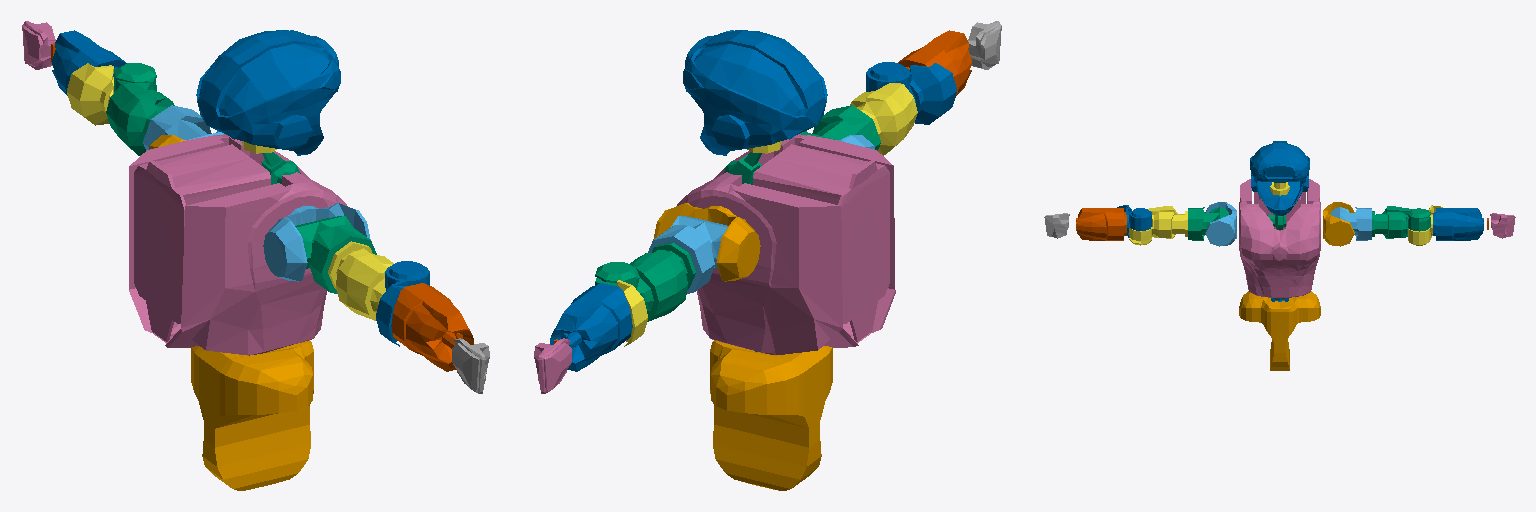
--- Render facts (derived) ---
The picture shows the robot from 3 angles, left to right: view 1: azimuth 30°, elevation 25°; view 2: azimuth 150°, elevation 25°; view 3: azimuth 270°, elevation 25°; orthographic projection.
Model valkyrie with 55 links and 54 joints (33 revolute, 21 fixed), rooted at pelvis, posed every joint at zero.
Visible links, largest first — view 1: torso, pelvis, upperNeckPitchLink, rightForearmLink, leftShoulderYawLink, rightShoulderYawLink, rightShoulderPitchLink, rightShoulderRollLink, leftElbowPitchLink, leftForearmLink, rightElbowPitchLink, leftShoulderRollLink (+3 smaller); view 2: torso, pelvis, upperNeckPitchLink, leftForearmLink, leftShoulderYawLink, leftShoulderPitchLink, rightElbowPitchLink, rightShoulderYawLink, leftShoulderRollLink, rightForearmLink, rightShoulderRollLink, leftPalm (+3 smaller); view 3: torso, upperNeckPitchLink, pelvis, leftForearmLink, rightForearmLink, leftShoulderYawLink, rightShoulderYawLink, rightShoulderPitchLink, leftShoulderPitchLink, rightShoulderRollLink, leftShoulderRollLink, rightElbowPitchLink.
Link boxes in pixels (box(x1,y1,x2,y2)): torso: box(129, 134, 346, 355); pelvis: box(191, 340, 313, 490); upperNeckPitchLink: box(196, 30, 340, 155); rightForearmLink: box(391, 283, 473, 371); leftShoulderYawLink: box(106, 63, 174, 155); rightShoulderYawLink: box(328, 241, 393, 320); rightShoulderPitchLink: box(263, 203, 370, 281); rightShoulderRollLink: box(295, 216, 376, 293); leftElbowPitchLink: box(67, 63, 113, 125); leftForearmLink: box(52, 30, 126, 95); rightElbowPitchLink: box(376, 261, 429, 346); leftShoulderRollLink: box(143, 105, 223, 150); torso: box(677, 134, 895, 354); pelvis: box(710, 340, 832, 490); upperNeckPitchLink: box(683, 30, 827, 155); leftForearmLink: box(550, 283, 632, 371); leftShoulderYawLink: box(595, 242, 695, 321); leftShoulderPitchLink: box(653, 203, 760, 281); rightElbowPitchLink: box(866, 62, 956, 124); rightShoulderYawLink: box(850, 83, 917, 155); leftShoulderRollLink: box(648, 216, 728, 293); rightForearmLink: box(898, 30, 971, 97); rightShoulderRollLink: box(800, 105, 880, 150); leftPalm: box(534, 338, 571, 393); torso: box(1239, 179, 1320, 297); upperNeckPitchLink: box(1250, 141, 1309, 215); pelvis: box(1239, 291, 1320, 370); leftForearmLink: box(1433, 208, 1483, 240); rightForearmLink: box(1076, 208, 1126, 240); leftShoulderYawLink: box(1372, 206, 1430, 238); rightShoulderYawLink: box(1129, 206, 1187, 245); rightShoulderPitchLink: box(1205, 202, 1236, 246); leftShoulderPitchLink: box(1323, 202, 1354, 246); rightShoulderRollLink: box(1188, 207, 1228, 240); leftShoulderRollLink: box(1331, 207, 1371, 240); rightElbowPitchLink: box(1117, 205, 1151, 237).
Bounding box of the posed robot: 0.4375 × 1.96 × 1.04 m (x, y, z).
21 mesh visuals loaded from 30 distinct referenced files (21 Collada DAE); not drawn: 11 (reference not matched to a file when rendering).

The robot description file, URDF, robot "valkyrie":
<?xml version="1.0" ?>
<!-- =================================================================================== -->
<!-- |    This document was autogenerated by xacro from /kinematic_analysis/src/val_description/model/robots/valkyrie_B.urdf.xacro | -->
<!-- |    EDITING THIS FILE BY HAND IS NOT RECOMMENDED                                 | -->
<!-- =================================================================================== -->
<robot name="valkyrie">
  <!--roll-->
  <!-- Setting the property for the left and right forearm -->
  <!-- <xacro:property name="leftArmJ5SerialNumber" value="v_g_016" />
        <xacro:property name="leftForearmSerialNumber" value="v_h_005"/> -->
  <!-- <xacro:property name="rightArmJ5SerialNumber" value="v_g_012" />
        <xacro:property name="rightForearmSerialNumber" value="v_h_006"/> -->
  <link name="pelvis">
    <inertial>
      <mass value="8.22"/>
      <origin rpy="0 0 0" xyz="-0.00532 -0.003512 -0.0036"/>
      <inertia ixx="0.11866378" ixy="-0.000143482" ixz="0.003271293" iyy="0.097963425" iyz="0.002159545" izz="0.083854638"/>
    </inertial>
    <visual>
      <geometry>
        <mesh filename="package://val_description/model/meshes/pelvis/pelvis.dae"/>
      </geometry>
      <origin rpy="0.0 0.0 0.0" xyz="0.0 0.0 0.0"/>
    </visual>
    <collision>
      <geometry>
        <mesh filename="package://val_description/model/meshes/pelvis/pelvis.dae"/>
      </geometry>
      <origin rpy="0 0 0" xyz="0 0 0"/>
    </collision>
  </link>
  <link name="pelvisRearImu_Frame">
    <!-- Virtual Link -->
    <inertial>
      <mass value="1e-07"/>
      <origin rpy="0 0 0" xyz="0 0 0"/>
      <inertia ixx="3.3333333333333322e-22" ixy="0.0" ixz="0.0" iyy="3.3333333333333322e-22" iyz="0.0" izz="4.999999999999999e-22"/>
    </inertial>
  </link>
  <joint name="pelvisRearImu_Offset" type="fixed">
    <origin rpy="-3.14159 0.476467 -3.14159" xyz="-0.075844901 0.0 -0.111056426"/>
    <axis xyz="0 0 1"/>
    <parent link="pelvis"/>
    <child link="pelvisRearImu_Frame"/>
  </joint>
  <gazebo reference="pelvisRearImu_Offset">
    <implicitSpringDamper>1</implicitSpringDamper>
  </gazebo>
  <gazebo>
    <plugin filename="libgazebo_ros_imu.so" name="imu_plugin_ros">
      <alwaysOn>true</alwaysOn>
      <bodyName>pelvisRearImu_Frame</bodyName>
      <topicName>pelvisRearImu/imu</topicName>
      <serviceName>pelvisRearImu/imu_service</serviceName>
      <gaussianNoise>0.0</gaussianNoise>
      <updateRate>1000.0</updateRate>
    </plugin>
  </gazebo>
  <gazebo reference="pelvisRearImu_Frame">
    <sensor name="pelvisRearImu" type="imu">
      <imuTransform>-0.075844901 0.0 -0.111056426 -3.14159 0.476467 -3.14159</imuTransform>
      <always_on>true</always_on>
      <pose>0 0 0 0 0 0 </pose>
      <node name="/sensors/rearPelvisIMU"/>
      <api name="imu_3dm_gx4_15_sensor::Imu3DmGx415Sensor"/>
      <port name="/dev/ttyS4"/>
      <imu>
        <noise>
          <type>gaussian</type>
          <rate>
            <mean>0</mean>
            <stddev>0.0002</stddev>
            <bias_mean>7.5e-06</bias_mean>
            <bias_stddev>8e-07</bias_stddev>
          </rate>
          <accel>
            <mean>0</mean>
            <stddev>0.017</stddev>
            <bias_mean>0.1</bias_mean>
            <bias_stddev>0.001</bias_stddev>
          </accel>
        </noise>
      </imu>
    </sensor>
  </gazebo>
  <link name="pelvisMiddleImu_Frame">
    <!-- Virtual Link -->
    <inertial>
      <mass value="1e-07"/>
      <origin rpy="0 0 0" xyz="0 0 0"/>
      <inertia ixx="3.3333333333333322e-22" ixy="0.0" ixz="0.0" iyy="3.3333333333333322e-22" iyz="0.0" izz="4.999999999999999e-22"/>
    </inertial>
  </link>
  <joint name="pelvisMiddleImu_Offset" type="fixed">
    <origin rpy="3.14159 0.0 0.0" xyz="0.0 0.0 -0.10819638"/>
    <axis xyz="0 0 1"/>
    <parent link="pelvis"/>
    <child link="pelvisMiddleImu_Frame"/>
  </joint>
  <gazebo reference="pelvisMiddleImu_Offset">
    <implicitSpringDamper>1</implicitSpringDamper>
  </gazebo>
  <gazebo>
    <plugin filename="libgazebo_ros_imu.so" name="imu_plugin_ros">
      <alwaysOn>true</alwaysOn>
      <bodyName>pelvisMiddleImu_Frame</bodyName>
      <topicName>pelvisMiddleImu/imu</topicName>
      <serviceName>pelvisMiddleImu/imu_service</serviceName>
      <gaussianNoise>0.0</gaussianNoise>
      <updateRate>500.0</updateRate>
    </plugin>
  </gazebo>
  <gazebo reference="pelvisMiddleImu_Frame">
    <sensor name="pelvisMiddleImu" type="imu">
      <imuTransform>0.0 0.0 -0.10819638 3.14159 0.0 0.0</imuTransform>
      <always_on>true</always_on>
      <pose>0 0 0 0 0 0 </pose>
      <imu>
        <noise>
          <type>gaussian</type>
          <rate>
            <mean>0</mean>
            <stddev>0.0002</stddev>
            <bias_mean>7.5e-06</bias_mean>
            <bias_stddev>8e-07</bias_stddev>
          </rate>
          <accel>
            <mean>0</mean>
            <stddev>0.017</stddev>
            <bias_mean>0.1</bias_mean>
            <bias_stddev>0.001</bias_stddev>
          </accel>
        </noise>
      </imu>
    </sensor>
  </gazebo>
  <link name="zedm_mount">
    <!-- Virtual Link -->
    <inertial>
      <mass value="1e-07"/>
      <origin rpy="0 0 0" xyz="0 0 0"/>
      <inertia ixx="3.3333333333333322e-22" ixy="0.0" ixz="0.0" iyy="3.3333333333333322e-22" iyz="0.0" izz="4.999999999999999e-22"/>
    </inertial>
  </link>
  <joint name="zedm_head_root_joint" type="fixed">
    <origin rpy="0.0 0.1309 0.0" xyz="0.192184 0.0 -0.096498"/>
    <axis xyz="0 0 1"/>
    <parent link="upperNeckPitchLink"/>
    <child link="zedm_mount"/>
  </joint>
  <gazebo reference="zedm_head_root_joint">
    <implicitSpringDamper>1</implicitSpringDamper>
  </gazebo>
  <link name="torsoYawLink">
    <inertial>
      <mass value="0.5"/>
      <origin rpy="0 0 0" xyz="0.000000 0.000000 -0.010000"/>
      <inertia ixx="0.000608427" ixy="-1.172e-06" ixz="1.647e-06" iyy="0.000620328" iyz="-2.33e-07" izz="0.001078108"/>
    </inertial>
    <visual>
      <geometry>
        <mesh filename="package://val_description/model/meshes/torso/torsoyaw.dae"/>
      </geometry>
      <origin rpy="0.0 0.0 0.0" xyz="0.0 0.0 0.0"/>
    </visual>
    <collision>
      <geometry>
        <mesh filename="package://val_description/model/meshes/torso/torsoyaw.dae"/>
      </geometry>
      <origin rpy="0 0 0" xyz="0 0 0"/>
    </collision>
  </link>
  <link name="torsoPitchLink">
    <inertial>
      <mass value="0.1"/>
      <origin rpy="0 0 0" xyz="0.000000 0.000000  0.005000"/>
      <inertia ixx="3.032e-05" ixy="0.0" ixz="-1.145e-06" iyy="2.1274e-05" iyz="0.0" izz="2.8285e-05"/>
    </inertial>
    <visual>
      <geometry>
        <mesh filename="package://val_description/model/meshes/torso/torsopitch.dae"/>
      </geometry>
      <origin rpy="0.0 0.0 0.0" xyz="0.0 0.0 0.0"/>
    </visual>
    <collision>
      <geometry>
        <mesh filename="package://val_description/model/meshes/torso/torsopitch.dae"/>
      </geometry>
      <origin rpy="0 0 0" xyz="0 0 0"/>
    </collision>
  </link>
  <link name="torso">
    <inertial>
      <mass value="30.87"/>
      <origin rpy="0 0 0" xyz="-0.095548 -0.003337 0.243098"/>
      <inertia ixx="0.858969" ixy="9.9563e-05" ixz="0.061345211" iyy="0.99655" iyz="0.00181849" izz="0.764098"/>
    </inertial>
    <visual>
      <geometry>
        <mesh filename="package://val_description/model/meshes/torso/torso.dae"/>
      </geometry>
      <origin rpy="0.0 0.0 0.0" xyz="0.0 0.0 0.0"/>
    </visual>
    <collision>
      <geometry>
        <mesh filename="package://val_description/model/meshes/torso/torso.dae"/>
      </geometry>
      <origin rpy="0 0 0" xyz="0 0 0"/>
    </collision>
  </link>
  <joint name="torsoYaw" type="revolute">
    <origin rpy="0.0 0.0 0.0" xyz="0.0 0.0 0.0"/>
    <axis xyz="0 0 1"/>
    <parent link="pelvis"/>
    <child link="torsoYawLink"/>
    <limit effort="190" lower="-1.329" upper="1.181" velocity="5.89"/>
    <controller_gains Kd="0.0" Ki="0.0" Kp="0.0"/>
    <dynamics damping="0.1" friction="0.0"/>
  </joint>
  <gazebo reference="torsoYaw">
    <provideFeedback>1</provideFeedback>
    <implicitSpringDamper>1</implicitSpringDamper>
  </gazebo>
  <joint name="torsoPitch" type="revolute">
    <origin rpy="0.0 0.0 0.0" xyz="0.04191 0.0 0.0"/>
    <axis xyz="0 1 0"/>
    <parent link="torsoYawLink"/>
    <child link="torsoPitchLink"/>
    <limit effort="150" lower="-0.13" upper="0.666" velocity="9"/>
    <controller_gains Kd="0.0" Ki="0.0" Kp="0.0"/>
    <dynamics damping="0.1" friction="0.0"/>
  </joint>
  <gazebo reference="torsoPitch">
    <provideFeedback>1</provideFeedback>
    <implicitSpringDamper>1</implicitSpringDamper>
  </gazebo>
  <joint name="torsoRoll" type="revolute">
    <origin rpy="0.0 0.0 0.0" xyz="0.0 0.0 0.0203"/>
    <axis xyz="1 0 0"/>
    <parent link="torsoPitchLink"/>
    <child link="torso"/>
    <limit effort="150" lower="-0.23" upper="0.255" velocity="9"/>
    <controller_gains Kd="0.0" Ki="0.0" Kp="0.0"/>
    <dynamics damping="0.1" friction="0.0"/>
  </joint>
  <gazebo reference="torsoRoll">
    <provideFeedback>1</provideFeedback>
    <implicitSpringDamper>1</implicitSpringDamper>
  </gazebo>
  <transmission name="torsoYawTransmission">
    <type>transmission_interface/SimpleTransmission</type>
    <joint name="torsoYaw">
      <hardwareInterface>EffortJointInterface</hardwareInterface>
    </joint>
    <actuator name="torsoYaw">
      <node name="/pelvis/waist"/>
      <mechanicalReduction>1</mechanicalReduction>
      <api name="robot_hardware_interface/TurbodriverAPI"/>
    </actuator>
  </transmission>
  <transmission name="waistTransmission">
    <type>robot_transmission_interface::TorsoPushrodTransmissionLoader</type>
    <joint name="torsoPitch">
      <role>pitch</role>
      <hardwareInterface>EffortJointInterface</hardwareInterface>
    </joint>
    <joint name="torsoRoll">
      <role>roll</role>
      <hardwareInterface>EffortJointInterface</hardwareInterface>
    </joint>
    <actuator name="waistRightActuator">
      <node name="/trunk/right_actuator"/>
      <role>right</role>
      <mechanicalReduction>1</mechanicalReduction>
      <api name="robot_hardware_interface/TurbodriverAPI_linear_Renishaw"/>
    </actuator>
    <actuator name="waistLeftActuator">
      <node name="/trunk/left_actuator"/>
      <role>left</role>
      <mechanicalReduction>1</mechanicalReduction>
      <api name="robot_hardware_interface/TurbodriverAPI_linear_Renishaw"/>
    </actuator>
  </transmission>
  <link name="leftTorsoImu_Frame">
    <!-- Virtual Link -->
    <inertial>
      <mass value="1e-07"/>
      <origin rpy="0 0 0" xyz="0 0 0"/>
      <inertia ixx="3.3333333333333322e-22" ixy="0.0" ixz="0.0" iyy="3.3333333333333322e-22" iyz="0.0" izz="4.999999999999999e-22"/>
    </inertial>
  </link>
  <joint name="leftTorsoImu_Offset" type="fixed">
    <origin rpy="-1.5707 0.0 0.0" xyz="-0.0627634 0.134239 0.3630676"/>
    <axis xyz="0 0 1"/>
    <parent link="torso"/>
    <child link="leftTorsoImu_Frame"/>
  </joint>
  <gazebo reference="leftTorsoImu_Offset">
    <implicitSpringDamper>1</implicitSpringDamper>
  </gazebo>
  <gazebo>
    <plugin filename="libgazebo_ros_imu.so" name="imu_plugin_ros">
      <alwaysOn>true</alwaysOn>
      <bodyName>leftTorsoImu_Frame</bodyName>
      <topicName>leftTorsoImu/imu</topicName>
      <serviceName>leftTorsoImu/imu_service</serviceName>
      <gaussianNoise>0.0</gaussianNoise>
      <updateRate>1000.0</updateRate>
    </plugin>
  </gazebo>
  <gazebo reference="leftTorsoImu_Frame">
    <sensor name="leftTorsoImu" type="imu">
      <imuTransform>-0.0627634 0.134239 0.3630676 -1.5707 0.0 0.0</imuTransform>
      <always_on>true</always_on>
      <pose>0 0 0 0 0 0 </pose>
      <node name="/sensors/leftTorsoIMU"/>
      <api name="imu_3dm_gx4_15_sensor::Imu3DmGx415Sensor"/>
      <port name="/dev/ttyS5"/>
      <imu>
        <noise>
          <type>gaussian</type>
          <rate>
            <mean>0</mean>
            <stddev>0.0002</stddev>
            <bias_mean>7.5e-06</bias_mean>
            <bias_stddev>8e-07</bias_stddev>
          </rate>
          <accel>
            <mean>0</mean>
            <stddev>0.017</stddev>
            <bias_mean>0.1</bias_mean>
            <bias_stddev>0.001</bias_stddev>
          </accel>
        </noise>
      </imu>
    </sensor>
  </gazebo>
  <link name="rightHazardCamera_Frame">
    <!-- Virtual Link -->
    <inertial>
      <mass value="1e-07"/>
      <origin rpy="0 0 0" xyz="0 0 0"/>
      <inertia ixx="3.3333333333333322e-22" ixy="0.0" ixz="0.0" iyy="3.3333333333333322e-22" iyz="0.0" izz="4.999999999999999e-22"/>
    </inertial>
  </link>
  <gazebo reference="rightHazardCamera_Frame">
    <sensor name="rightHazardCamera" type="camera">
      <camera>
        <image>
          <width>1280</width>
          <height>1024</height>
          <format>R8G8B8</format>
        </image>
        <horizontal_fov>1.378</horizontal_fov>
        <clip>
          <near>0.1</near>
          <far>100</far>
        </clip>
      </camera>
      <update_rate>60</update_rate>
    </sensor>
  </gazebo>
  <joint name="rightHazardCamera_Offset" type="fixed">
    <origin rpy="1.57 0.0 1.57" xyz="0.0345 -0.0406 0.1135"/>
    <axis xyz="0 0 1"/>
    <parent link="torso"/>
    <child link="rightHazardCamera_Frame"/>
  </joint>
  <gazebo reference="rightHazardCamera_Offset">
    <implicitSpringDamper>1</implicitSpringDamper>
  </gazebo>
  <link name="leftHazardCamera_Frame">
    <!-- Virtual Link -->
    <inertial>
      <mass value="1e-07"/>
      <origin rpy="0 0 0" xyz="0 0 0"/>
      <inertia ixx="3.3333333333333322e-22" ixy="0.0" ixz="0.0" iyy="3.3333333333333322e-22" iyz="0.0" izz="4.999999999999999e-22"/>
    </inertial>
  </link>
  <gazebo reference="leftHazardCamera_Frame">
    <sensor name="leftHazardCamera" type="camera">
      <camera>
        <image>
          <width>1280</width>
          <height>1024</height>
          <format>R8G8B8</format>
        </image>
        <horizontal_fov>1.378</horizontal_fov>
        <clip>
          <near>0.1</near>
          <far>100</far>
        </clip>
      </camera>
      <update_rate>60</update_rate>
    </sensor>
  </gazebo>
  <joint name="leftHazardCamera_Offset" type="fixed">
    <origin rpy="1.57 0.0 1.57" xyz="0.0345 0.0406 0.1135"/>
    <axis xyz="0 0 1"/>
    <parent link="torso"/>
    <child link="leftHazardCamera_Frame"/>
  </joint>
  <gazebo reference="leftHazardCamera_Offset">
    <implicitSpringDamper>1</implicitSpringDamper>
  </gazebo>
  <link name="lowerNeckPitchLink">
    <inertial>
      <mass value="1.05"/>
      <origin rpy="0 0 0" xyz="-0.020000 0.000000  0.040000"/>
      <inertia ixx="0.001470716" ixy="-0.000126021" ixz="0.000632521" iyy="0.001851919" iyz="0.000243012" izz="0.000832117"/>
    </inertial>
    <visual>
      <geometry>
        <mesh filename="package://val_description/model/meshes/head/neckj1.dae"/>
      </geometry>
      <origin rpy="0.0 0.0 0.0" xyz="0.0 0.0 0.0"/>
    </visual>
    <collision>
      <geometry>
        <mesh filename="package://val_description/model/meshes/head/neckj1.dae"/>
      </geometry>
      <origin rpy="0 0 0" xyz="0 0 0"/>
    </collision>
  </link>
  <link name="neckYawLink">
    <inertial>
      <mass value="1.4"/>
      <origin rpy="0 0 0" xyz="-0.030000  -0.010000 0.150000"/>
      <inertia ixx="0.001997698" ixy="-0.000180062" ixz="0.000723677" iyy="0.002919928" iyz="0.000246467" izz="0.002119751"/>
    </inertial>
    <visual>
      <geometry>
        <mesh filename="package://val_description/model/meshes/head/neckj2.dae"/>
      </geometry>
      <origin rpy="0.0 0.0 0.0" xyz="0.0 0.0 0.0"/>
    </visual>
    <collision>
      <geometry>
        <mesh filename="package://val_description/model/meshes/head/neckj2.dae"/>
      </geometry>
      <origin rpy="0 0 0" xyz="0 0 0"/>
    </collision>
  </link>
  <link name="upperNeckPitchLink">
    <inertial>
      <mass value="3.89"/>
      <origin rpy="0 0 0" xyz="0.100912 0.005783 0.034787"/>
      <inertia ixx="0.039847525" ixy="-0.000470418" ixz="-0.002829842" iyy="0.041418564" iyz="-0.000782564" izz="0.036841236"/>
    </inertial>
    <visual>
      <geometry>
        <mesh filename="package://val_description/model/meshes/head/head_multisense_no_visor.dae"/>
      </geometry>
      <origin rpy="0.0 0.0 0.0" xyz="0.0 0.0 0.0"/>
    </visual>
    <collision>
      <geometry>
        <mesh filename="package://val_description/model/meshes/head/head_multisense_no_visor.dae"/>
      </geometry>
      <origin rpy="0 0 0" xyz="0 0 0"/>
    </collision>
  </link>
  <joint name="lowerNeckPitch" type="revolute">
    <origin rpy="0.0 0.0 0.0" xyz="0.0203518 0.0 0.33845"/>
    <axis xyz="0 1 0"/>
    <parent link="torso"/>
    <child link="lowerNeckPitchLink"/>
    <limit effort="26" lower="0" upper="1.162" velocity="5"/>
    <controller_gains Kd="3" Ki="3" Kp="50"/>
    <dynamics damping="0.1" friction="0.0"/>
  </joint>
  <gazebo reference="lowerNeckPitch">
    <provideFeedback>1</provideFeedback>
    <implicitSpringDamper>1</implicitSpringDamper>
  </gazebo>
  <joint name="neckYaw" type="revolute">
    <origin rpy="0.0 0.0 0.0" xyz="-0.051924 0.0 0.0"/>
    <axis xyz="0 0 1"/>
    <parent link="lowerNeckPitchLink"/>
    <child link="neckYawLink"/>
    <limit effort="26" lower="-1.04719755" upper="1.04719755" velocity="5"/>
    <controller_gains Kd="3" Ki="0.0" Kp="50"/>
    <dynamics damping="0.1" friction="0.0"/>
  </joint>
  <gazebo reference="neckYaw">
    <provideFeedback>1</provideFeedback>
    <implicitSpringDamper>1</implicitSpringDamper>
  </gazebo>
  <joint name="upperNeckPitch" type="revolute">
    <origin rpy="0.0 0.0 0.0" xyz="-0.06 0 0.195997"/>
    <axis xyz="0 1 0"/>
    <parent link="neckYawLink"/>
    <child link="upperNeckPitchLink"/>
    <limit effort="26" lower="-0.872" upper="0.0" velocity="5"/>
    <controller_gains Kd="3" Ki="0.0" Kp="50"/>
    <dynamics damping="0.1" friction="0.0"/>
  </joint>
  <gazebo reference="upperNeckPitch">
    <provideFeedback>1</provideFeedback>
    <implicitSpringDamper>1</implicitSpringDamper>
  </gazebo>
    <!-- Head Link Simple Collision Meshes -->
  <link name="multisense/head">
    <inertial>
      <origin xyz="-0.075493 3.3383E-05 0.02774" rpy="0 0 0" />
      <mass value="1.41984" />
      <inertia iyy="0.0041178" ixy="-1.5797E-06" iyz="-6.8415E-07" ixx="0.0039688" ixz="-0.00089293" izz="0.0035243" />
    </inertial>
<!--     <visual>
      <origin xyz="0 0 0" rpy="0 0 0" />
      <geometry>
        <mesh filename="package://val_description/model/meshes/multisense/head.dae" />
      </geometry>
    </visual> -->
  <collision>
    <origin xyz="-0.0503 0 -0.00195" rpy="0 0 0" />
    <geometry>
      <box size="0.1311 0.12 0.0591"/>
    </geometry>
  </collision>
  <collision>
    <origin xyz="-0.093 0 0.0868" rpy="0 0 0" />
    <geometry>
      <box size="0.0468 0.12 0.1184"/>
    </geometry>
  </collision>
  </link>
  <link name="hokuyo_link">
    <inertial>
      <origin xyz="0.032428 0.0004084 -0.0041835" rpy="0 0 0" />
      <mass value="0.057654" />
      <inertia iyy="4.2412E-05" ixy="4.9927E-08" iyz="-9.8165E-09" ixx="3.7174E-05" ixz="1.1015E-05" izz="4.167E-05" />
    </inertial>
    <visual>
      <!--origin xyz="0.065774 -0.001163 -0.08809" rpy="0 0 0" /-->
      <!--origin xyz="0.045 -0.001163 -0.08809" rpy="-0.314 0 0" /-->
      <origin xyz="0.045 -0.0261018277 -0.08342369" rpy="-0.314 0 0" />
      <geometry>
        <mesh filename="package://val_description/model/meshes/multisense/head_camera.dae" />
      </geometry>
    </visual>
  <collision>
    <origin xyz="0.01885 0 -0.02119" rpy="0 0 0" />
    <geometry>
      <box size="0.08 0.06 0.04238"/>
    </geometry>
  </collision>
  <collision>
    <origin xyz="0.03 0 0.0235" rpy="0 0 0" />
    <geometry>
      <cylinder radius="0.024425" length="0.047"/>
    </geometry>
  </collision>
  </link>
  <gazebo reference="multisense/head">
    <mu1>0.9</mu1>
    <mu2>0.9</mu2>
  </gazebo>
  <gazebo reference="hokuyo_link">
    <mu1>0.9</mu1>
    <mu2>0.9</mu2>
  </gazebo>

  <joint name="hokuyo_joint" type="revolute">
    <origin xyz="-0.0446 0 0.0880" rpy="0 0 0" />
    <parent link="multisense/head" />
    <child link="hokuyo_link" />
    <axis xyz="1 0 0" />
    <dynamics damping="0.01" friction="0"/>
    <limit lower="-1e+16" upper="1e+16"/>
  </joint>
  <gazebo reference="hokuyo_joint">
    <implicitSpringDamper>1</implicitSpringDamper>
  </gazebo>

  <!-- Hokuyo Laser -->
  <joint name="head_hokuyo_joint" type="fixed">
    <axis xyz="0 1 0" />
    <origin xyz="0.03 0 0.015" rpy="0 0 0"/>
    <parent link="hokuyo_link"/>
    <child link="head_hokuyo_frame"/>
  </joint>
  <link name="head_hokuyo_frame">
    <inertial>
      <mass value="1e-5" />
      <!-- collocate with parent link and remove mass from it -->
      <origin xyz="0.042428 0.0004084 0.0108165" rpy="0 0 0"/>
      <inertia ixx="1e-6" ixy="0" ixz="0" iyy="1e-6" iyz="0" izz="1e-6" />
    </inertial>
  </link>
  <gazebo reference="head_hokuyo_frame">
    <sensor type="gpu_ray" name="head_hokuyo_sensor">
      <pose>0 0 0 0 0 0</pose>
      <visualize>false</visualize>
      <update_rate>40</update_rate>
      <ray>
        <scan>
          <horizontal>
            <samples>1081</samples>
            <resolution>1</resolution>
            <min_angle>-2.356194</min_angle>
            <max_angle>2.356194</max_angle>
          </horizontal>
        </scan>
        <range>
          <min>0.10</min>
          <max>30.0</max>
          <resolution>0.01</resolution>
        </range>
        <noise>
          <type>gaussian</type>
          <!-- Noise parameters based on published spec for Hokuyo laser
               achieving "+-30mm" accuracy at range < 10m.  A mean of 0.0m and
               stddev of 0.01m will put 99.7% of samples within 0.03m of the true
               reading. -->
          <mean>0.0</mean>
          <stddev>0.01</stddev>
        </noise>
      </ray>
    </sensor>
  </gazebo>
  <!-- Stereo Camera -->
  <joint name="left_camera_frame_joint" type="fixed">
    <!-- optical frame collocated with tilting DOF -->
    <origin xyz="0.0 0.035 -0.002"/>
    <parent link="multisense/head"/>
    <child link="left_camera_frame"/>
  </joint>
  <link name="left_camera_frame">
    <inertial>
      <mass value="1e-5" />
      <!-- collocate with parent link and remove mass from it -->
      <origin xyz="-0.075493 0.035033383 0.02574"/>
      <inertia ixx="1e-6" ixy="0" ixz="0" iyy="1e-6" iyz="0" izz="1e-6" />
    </inertial>
  </link>
  <joint name="left_camera_optical_frame_joint" type="fixed">
    <origin xyz="0 0 0" rpy="-1.5708 0.0 -1.5708" />
    <parent link="left_camera_frame" />
    <child link="left_camera_optical_frame"/>
  </joint>
  <link name="left_camera_optical_frame"/>
  <gazebo reference="left_camera_frame">
    <sensor type="multicamera" name="stereo_camera">
      <!-- see MultiSenseSLPlugin.h for available modes -->
      <update_rate>10.0</update_rate>
      <camera name="left">
        <!-- Spec sheet says 80deg X 45deg @ 1024x544pix.  Based on feedback
             from teams, we're instead doing 80deg X 80deg @ 800x800pix. -->
        <horizontal_fov>1.3962634</horizontal_fov>
        <image>
          <width>1024</width>
          <height>544</height>
          <format>R8G8B8</format>
        </image>
        <clip>
          <near>0.02</near>
          <far>300</far>
        </clip>
        <noise>
          <type>gaussian</type>
          <!-- Noise is sampled independently per pixel on each frame.  
               That pixel's noise value is added to each of its color
               channels, which at that point lie in the range [0,1].
               The stddev value of 0.007 is based on experimental data 
               from a camera in a Sandia hand pointed at a static scene
               in a couple of different lighting conditions.  -->
          <mean>0.0</mean>
          <stddev>0.007</stddev>
        </noise>
      </camera>
      <camera name="right">
        <pose>0 -0.07 0 0 0 0</pose>
        <!-- Spec sheet says 80deg X 45deg @ 1024x544pix. -->
        <horizontal_fov>1.3962634</horizontal_fov>
        <image>
          <width>1024</width>
          <height>544</height>
          <format>R8G8B8</format>
        </image>
        <clip>
          <near>0.02</near>
          <far>300</far>
        </clip>
        <noise>
          <type>gaussian</type>
          <!-- Noise is sampled independently per pixel on each frame.  
               That pixel's noise value is added to each of its color
               channels, which at that point lie in the range [0,1].
               The stddev value of 0.007 is based on experimental data 
               from a camera in a Sandia hand pointed at a static scene
               in a couple of different lighting conditions.  -->
          <mean>0.0</mean>
          <stddev>0.007</stddev>
        </noise>
      </camera>
    </sensor>
  </gazebo>


  <joint name="right_camera_frame_joint" type="fixed">
    <origin xyz="0.0 -0.035 -0.002"/>
    <parent link="multisense/head"/>
    <child link="right_camera_frame"/>
  </joint>
  <link name="right_camera_frame">
    <inertial>
      <mass value="1e-5" />
      <!-- collocate with parent link and remove mass from it -->
      <origin xyz="-0.075493 -0.034966617 0.02574"/>
      <inertia ixx="1e-6" ixy="0" ixz="0" iyy="1e-6" iyz="0" izz="1e-6" />
    </inertial>
  </link>
  <joint name="right_camera_optical_frame_joint" type="fixed">
    <origin xyz="0 0 0" rpy="-1.5708 0.0 -1.5708" />
    <parent link="right_camera_frame" />
    <child link="right_camera_optical_frame"/>
  </joint>
  <link name="right_camera_optical_frame"/>

  <joint name="center_top_led_frame_joint" type="fixed">
    <origin xyz="0.01125 0.0 0.0105"/>
    <parent link="multisense/head"/>
    <child link="center_top_led_frame"/>
  </joint>
  <link name="center_top_led_frame">
    <inertial>
      <mass value="1e-5" />
      <!-- collocate with parent link and remove mass from it -->
      <origin xyz="-0.064243 0.000033383 0.03824" rpy="0 0 0" />
      <inertia ixx="1e-6" ixy="0" ixz="0" iyy="1e-6" iyz="0" izz="1e-6" />
    </inertial>
  </link>
  <joint name="center_bottom_led_frame_joint" type="fixed">
    <origin xyz="0.01125 0.0 -0.0155"/>
    <parent link="multisense/head"/>
    <child link="center_bottom_led_frame"/>
  </joint>
  <link name="center_bottom_led_frame">
    <inertial>
      <mass value="1e-5" />
      <!-- collocate with parent link and remove mass from it -->
      <origin xyz="-0.064243 0.000033383 0.01224" rpy="0 0 0" />
      <inertia ixx="1e-6" ixy="0" ixz="0" iyy="1e-6" iyz="0" izz="1e-6" />
    </inertial>
  </link>
  <joint name="left_led_frame_joint" type="fixed">
    <origin xyz="-0.01443 0.07452 0.050346" rpy="0 -0.15 0.53"/>
    <parent link="multisense/head"/>
    <child link="left_led_frame"/>
  </joint>
  <link name="left_led_frame">
    <inertial>
      <mass value="1e-5" />
      <!-- collocate with parent link and remove mass from it -->
      <origin xyz="-0.089923 0.074553383 0.078086" rpy="0 -0.15 0.53" />
      <inertia ixx="1e-6" ixy="0" ixz="0" iyy="1e-6" iyz="0" izz="1e-6" />
    </inertial>
  </link>
  <joint name="right_led_frame_joint" type="fixed">
    <origin xyz="-0.01443 -0.07452 0.050346" rpy="0 -0.15 -0.53"/>
    <parent link="multisense/head"/>
    <child link="right_led_frame"/>
  </joint>
  <link name="right_led_frame">
    <inertial>
      <mass value="1e-5" />
      <!-- collocate with parent link and remove mass from it -->
      <origin xyz="-0.089923 -0.074486617 0.07908" rpy="0 -0.15 -0.53" />
      <inertia ixx="1e-6" ixy="0" ixz="0" iyy="1e-6" iyz="0" izz="1e-6" />
    </inertial>
  </link>

  <!-- imu link -->
  <link name="head_imu_link">
    <inertial>
      <mass value="1e-5" />
      <!-- collocate with parent link and remove mass from it -->
      <origin xyz="-0.122993 0.035033383 0.02774" rpy="0 0 0" />
      <inertia ixx="1e-6" ixy="0" ixz="0" iyy="1e-6" iyz="0" izz="1e-6" />
    </inertial>
  </link>
  <joint name="head_imu_joint" type="fixed">
    <parent link="multisense/head"/>
    <child link="head_imu_link"/>
    <!-- putting it at the same z-level as the stereo -->
    <origin xyz="-0.0475 0.035 0.0" rpy="0 0 0"/>
  </joint>
  <gazebo reference="head_imu_link">
    <sensor name="head_imu_sensor" type="imu">
      <always_on>1</always_on>
      <update_rate>1000.0</update_rate>
      <imu>
        <noise>
          <type>gaussian</type>
          <rate>
            <mean>0.0</mean>
            <stddev>2e-4</stddev>
            <bias_mean>0.0000075</bias_mean>
            <bias_stddev>0.0000008</bias_stddev>
          </rate>
          <accel>
            <mean>0.0</mean>
            <stddev>1.7e-2</stddev>
            <bias_mean>0.1</bias_mean>
            <bias_stddev>0.001</bias_stddev>
          </accel>
        </noise>
      </imu>
    </sensor>
  </gazebo>
  <joint name="multisense_head_root_joint" type="fixed">
    <origin rpy="-3.14159 0.130899694 0.0" xyz="0.183585961 0.0 0.075353826"/>
    <axis xyz="0 0 1"/>
    <parent link="upperNeckPitchLink"/>
    <child link="multisense/head"/>
  </joint>
  <gazebo reference="multisense_head_root_joint">
    <implicitSpringDamper>1</implicitSpringDamper>
  </gazebo>
  <transmission name="lowerNeckPitchTransmission">
    <type>transmission_interface/SimpleTransmission</type>
    <joint name="lowerNeckPitch">
      <hardwareInterface>PositionJointInterface</hardwareInterface>
    </joint>
    <actuator name="lowerNeckPitch">
      <node name="/neck/j1"/>
      <mechanicalReduction>1</mechanicalReduction>
      <api name="robot_hardware_interface/TurbodriverAPI"/>
    </actuator>
  </transmission>
  <transmission name="neckYawTransmission">
    <type>transmission_interface/SimpleTransmission</type>
    <joint name="neckYaw">
      <hardwareInterface>PositionJointInterface</hardwareInterface>
    </joint>
    <actuator name="neckYaw">
      <node name="/neck/j2"/>
      <mechanicalReduction>1</mechanicalReduction>
      <api name="robot_hardware_interface/TurbodriverAPI"/>
    </actuator>
  </transmission>
  <transmission name="upperNeckPitchTransmission">
    <type>transmission_interface/SimpleTransmission</type>
    <joint name="upperNeckPitch">
      <hardwareInterface>PositionJointInterface</hardwareInterface>
    </joint>
    <actuator name="upperNeckPitch">
      <node name="/neck/j3"/>
      <mechanicalReduction>1</mechanicalReduction>
      <api name="robot_hardware_interface/TurbodriverAPI"/>
    </actuator>
  </transmission>
  <link name="rightHipYawLink">
    <inertial>
      <mass value="2.39"/>
      <origin rpy="0 0 0" xyz="0.02176 0.00131 0.03867"/>
      <inertia ixx="0.017260978" ixy="0.0" ixz="0.0" iyy="0.014866198" iyz="0.0" izz="0.011238178"/>
    </inertial>
    <visual>
      <geometry>
        <mesh filename="package://val_description/model/meshes/legs/lj1_right.dae"/>
      </geometry>
      <origin rpy="0.0 0.0 0.0" xyz="0.0 0.0 0.0"/>
    </visual>
    <collision>
      <geometry>
        <mesh filename="package://val_description/model/meshes/legs/lj1_right.dae"/>
      </geometry>
      <origin rpy="0 0 0" xyz="0 0 0"/>
    </collision>
  </link>
  <link name="rightHipRollLink">
    <inertial>
      <mass value="3.665"/>
      <origin rpy="0 0 0" xyz="0.012959 -0.00755 -0.015950"/>
      <inertia ixx="0.005978962" ixy="0.000234823" ixz="0.000553962" iyy="0.009372646" iyz="-0.000778956" izz="0.008193117"/>
    </inertial>
  </link>
  <link name="rightHipPitchLink">
    <inertial>
      <mass value="10.2"/>
      <origin rpy="0 0 0" xyz="0.016691 -0.091397 -0.207875"/>
      <inertia ixx="0.24083413" ixy="-3.5915e-05" ixz="0.003699383" iyy="0.25689705" iyz="0.001333005" izz="0.023276352"/>
    </inertial>
    <visual>
      <geometry>
        <mesh filename="package://val_description/model/meshes/legs/lj3_right.dae"/>
      </geometry>
      <origin rpy="0.0 0.0 0.0" xyz="0.0 0.0 0.0"/>
    </visual>
    <collision>
      <geometry>
        <mesh filename="package://val_description/model/meshes/legs/lj3_right.dae"/>
      </geometry>
      <origin rpy="0 0 0" xyz="0 0 0"/>
    </collision>
  </link>
  <link name="rightKneePitchLink">
    <inertial>
      <mass value="6.2"/>
      <origin rpy="0 0 0" xyz="-0.022183  0.001703  -0.189418"/>
      <inertia ixx="0.086935683" ixy="9.929e-05" ixz="0.000573207" iyy="0.091584066" iyz="0.000313745" izz="0.014017272"/>
    </inertial>
    <visual>
      <geometry>
        <mesh filename="package://val_description/model/meshes/legs/lj4_right.dae"/>
      </geometry>
      <origin rpy="0.0 0.0 0.0" xyz="0.0 0.0 0.0"/>
    </visual>
    <collision>
      <geometry>
        <mesh filename="package://val_description/model/meshes/legs/lj4_right.dae"/>
      </geometry>
      <origin rpy="0 0 0" xyz="0 0 0"/>
    </collision>
  </link>
  <link name="rightAnklePitchLink">
    <inertial>
      <mass value="0.03"/>
      <origin rpy="0 0 0" xyz="0.0 0.0 0.0"/>
      <inertia ixx="4.377e-06" ixy="0.0" ixz="0.0" iyy="4.322e-06" iyz="0.0" izz="7.015e-06"/>
    </inertial>
    <visual>
      <geometry>
        <mesh filename="package://val_description/model/meshes/legs/lj5.dae"/>
      </geometry>
      <origin rpy="0.0 0.0 0.0" xyz="0.0 0.0 0.0"/>
    </visual>
    <collision>
      <geometry>
        <mesh filename="package://val_description/model/meshes/legs/lj5.dae"/>
      </geometry>
      <origin rpy="0 0 0" xyz="0 0 0"/>
    </collision>
  </link>
  <link name="rightFoot">
    <inertial>
      <mass value="2.27"/>
      <origin rpy="0 0 0" xyz="0.037702  0.005161  -0.047634"/>
      <inertia ixx="0.00623936" ixy="0.000217174" ixz="0.001340587" iyy="0.017786991" iyz="-0.000187749" izz="0.020774433"/>
    </inertial>
    <visual>
      <geometry>
        <mesh filename="package://val_description/model/meshes/legs/foot.dae"/>
      </geometry>
      <origin rpy="0 0 0" xyz="0 0 0"/>
    </visual>
    <collision>
      <geometry>
        <box size="0.27 0.16 0.064"/>
      </geometry>
      <origin rpy="0.0 0.0 0.0" xyz="0.045 0.0 -0.056"/>
    </collision>
  </link>
  <!-- foot contact parameters copied from atlas_description in drcsim -->
  <gazebo reference="rightFoot">
    <!-- kp and kd for rubber -->
    <kp>1000000.0</kp>
    <kd>100.0</kd>
    <mu1>1.5</mu1>
    <mu2>1.5</mu2>
    <fdir1>1 0 0</fdir1>
    <maxVel>1.0</maxVel>
    <minDepth>0.00</minDepth>
  </gazebo>
  <joint name="rightHipYaw" type="revolute">
    <origin rpy="0.0 0.0 0.0" xyz="0.0 -0.1016 -0.1853"/>
    <axis xyz="0 0 1"/>
    <parent link="pelvis"/>
    <child link="rightHipYawLink"/>
    <limit effort="190" lower="-1.10" upper="0.4141" velocity="5.89"/>
    <controller_gains Kd="0.0" Ki="0.0" Kp="0.0"/>
    <dynamics damping="0.1" friction="0.0"/>
  </joint>
  <gazebo reference="rightHipYaw">
    <provideFeedback>1</provideFeedback>
    <implicitSpringDamper>1</implicitSpringDamper>
  </gazebo>
  <joint name="rightHipRoll" type="revolute">
    <origin rpy="0.0 0.0 0.0" xyz="0.0 0.0 0.0"/>
    <axis xyz="1 0 0"/>
    <parent link="rightHipYawLink"/>
    <child link="rightHipRollLink"/>
    <limit effort="350" lower="-0.5515" upper="0.467" velocity="7"/>
    <controller_gains Kd="0.0" Ki="0.0" Kp="0.0"/>
    <dynamics damping="0.1" friction="0.0"/>
  </joint>
  <gazebo reference="rightHipRoll">
    <provideFeedback>1</provideFeedback>
    <implicitSpringDamper>1</implicitSpringDamper>
  </gazebo>
  <joint name="rightHipPitch" type="revolute">
    <origin rpy="0.0 0.0 0.0" xyz="0.0 0.0 -0.0609"/>
    <axis xyz="0 1 0"/>
    <parent link="rightHipRollLink"/>
    <child link="rightHipPitchLink"/>
    <limit effort="350" lower="-2.42" upper="1.619" velocity="6.11"/>
    <controller_gains Kd="0.0" Ki="0.0" Kp="0.0"/>
    <dynamics damping="0.1" friction="0.0"/>
  </joint>
  <gazebo reference="rightHipPitch">
    <provideFeedback>1</provideFeedback>
    <implicitSpringDamper>1</implicitSpringDamper>
  </gazebo>
  <joint name="rightKneePitch" type="revolute">
    <origin rpy="0.0 0.0 0.0" xyz="0.000112225 -0.0361046 -0.430959"/>
    <axis xyz="0 1 0"/>
    <parent link="rightHipPitchLink"/>
    <child link="rightKneePitchLink"/>
    <limit effort="350" lower="-0.083" upper="2.057" velocity="6.11"/>
    <controller_gains Kd="0.0" Ki="0.0" Kp="0.0"/>
    <dynamics damping="0.1" friction="0.0"/>
  </joint>
  <gazebo reference="rightKneePitch">
    <provideFeedback>1</provideFeedback>
    <implicitSpringDamper>1</implicitSpringDamper>
  </gazebo>
  <joint name="rightAnklePitch" type="revolute">
    <origin rpy="0.0 0.0 0.0" xyz="-0.0102381 0.0 -0.40627"/>
    <axis xyz="0 1 0"/>
    <parent link="rightKneePitchLink"/>
    <child link="rightAnklePitchLink"/>
    <limit effort="205" lower="-0.8644" upper="0.875" velocity="11"/>
    <controller_gains Kd="0.0" Ki="0.0" Kp="0.0"/>
    <dynamics damping="0.1" friction="0.0"/>
  </joint>
  <gazebo reference="rightAnklePitch">
    <provideFeedback>1</provideFeedback>
    <implicitSpringDamper>1</implicitSpringDamper>
  </gazebo>
  <joint name="rightAnkleRoll" type="revolute">
    <origin rpy="0.0 0.0 0.0" xyz="0.0101259 0.0 0.0"/>
    <axis xyz="1 0 0"/>
    <parent link="rightAnklePitchLink"/>
    <child link="rightFoot"/>
    <limit effort="205" lower="-0.349" upper="0.348" velocity="11"/>
    <controller_gains Kd="0.0" Ki="0.0" Kp="0.0"/>
    <dynamics damping="0.3" friction="0.0"/>
  </joint>
  <gazebo reference="rightAnkleRoll">
    <provideFeedback>1</provideFeedback>
    <implicitSpringDamper>1</implicitSpringDamper>
  </gazebo>
  <link name="rightCOP_Frame">
    <inertial>
      <mass value="0.1"/>
      <origin rpy="0 0 0" xyz="0 0 0"/>
      <inertia ixx="8.333333333333336e-05" ixy="0.0" ixz="0.0" iyy="8.333333333333336e-05" iyz="0.0" izz="0.00012500000000000003"/>
    </inertial>
  </link>
  <joint name="rightCOP_Offset" type="fixed">
    <origin rpy="0.0 0.0 0.0" xyz="0.0189 0.0 -0.0783"/>
    <axis xyz="0 0 1"/>
    <parent link="rightFoot"/>
    <child link="rightCOP_Frame"/>
  </joint>
  <gazebo reference="rightCOP_Offset">
    <implicitSpringDamper>1</implicitSpringDamper>
  </gazebo>
  <link name="rightFootSixAxis_Frame">
    <!-- Virtual Link -->
    <inertial>
      <mass value="1e-07"/>
      <origin rpy="0 0 0" xyz="0 0 0"/>
      <inertia ixx="3.3333333333333322e-22" ixy="0.0" ixz="0.0" iyy="3.3333333333333322e-22" iyz="0.0" izz="4.999999999999999e-22"/>
    </inertial>
  </link>
  <joint name="rightFootSixAxis_Offset" type="fixed">
    <origin rpy="3.14 0.0 0.0" xyz="0.0215646 0.0 -0.051054"/>
    <axis xyz="0 0 1"/>
    <parent link="rightFoot"/>
    <child link="rightFootSixAxis_Frame"/>
  </joint>
  <gazebo reference="rightFootSixAxis_Offset">
    <implicitSpringDamper>1</implicitSpringDamper>
  </gazebo>
  <gazebo reference="rightAnkleRoll">
    <sensor name="rightFootSixAxis" type="force_torque">
      <pose>0.0215646 0.0 -0.051054 3.14 0.0 0.0</pose>
      <sensor_number id="FT16592"/>
      <node id="/right_leg/ankle/left_actuator"/>
      <api name="ati_sensor_interface::ATISensorInterface"/>
      <always_on>true</always_on>
      <update_rate>500.0</update_rate>
      <force_torque>
        <frame>sensor</frame>
        <measure_direction>parent_to_child</measure_direction>
      </force_torque>
    </sensor>
  </gazebo>
  <transmission name="rightHipYawTransmission">
    <type>transmission_interface/SimpleTransmission</type>
    <joint name="rightHipYaw">
      <hardwareInterface>EffortJointInterface</hardwareInterface>
    </joint>
    <actuator name="rightHipYaw">
      <node name="/pelvis/right_leg_j1"/>
      <mechanicalReduction>1</mechanicalReduction>
      <api name="robot_hardware_interface/TurbodriverAPI"/>
    </actuator>
  </transmission>
  <transmission name="rightHipRollTransmission">
    <type>transmission_interface/SimpleTransmission</type>
    <joint name="rightHipRoll">
      <hardwareInterface>EffortJointInterface</hardwareInterface>
    </joint>
    <actuator name="rightHipRoll">
      <node name="/right_leg/j2"/>
      <mechanicalReduction>1</mechanicalReduction>
      <api name="robot_hardware_interface/TurbodriverAPI"/>
    </actuator>
  </transmission>
  <transmission name="rightHipPitchTransmission">
    <type>transmission_interface/SimpleTransmission</type>
    <joint name="rightHipPitch">
      <hardwareInterface>EffortJointInterface</hardwareInterface>
    </joint>
    <actuator name="rightHipPitch">
      <node name="/right_leg/j3"/>
      <mechanicalReduction>1</mechanicalReduction>
      <api name="robot_hardware_interface/TurbodriverAPI"/>
    </actuator>
  </transmission>
  <transmission name="rightKneePitchTransmission">
    <type>transmission_interface/SimpleTransmission</type>
    <joint name="rightKneePitch">
      <hardwareInterface>EffortJointInterface</hardwareInterface>
    </joint>
    <actuator name="rightKneePitch">
      <node name="/right_leg/j4"/>
      <mechanicalReduction>1</mechanicalReduction>
      <api name="robot_hardware_interface/TurbodriverAPI"/>
    </actuator>
  </transmission>
  <transmission name="rightAnkleTransmission">
    <type>robot_transmission_interface::AnklePushrodTransmissionLoader</type>
    <joint name="rightAnklePitch">
      <role>pitch</role>
      <hardwareInterface>EffortJointInterface</hardwareInterface>
    </joint>
    <joint name="rightAnkleRoll">
      <role>roll</role>
      <hardwareInterface>EffortJointInterface</hardwareInterface>
    </joint>
    <actuator name="rightAnkleRightActuator">
      <node name="/right_leg/ankle/right_actuator"/>
      <role>right</role>
      <mechanicalReduction>1</mechanicalReduction>
      <api name="robot_hardware_interface/TurbodriverAPI_linear_futek"/>
    </actuator>
    <actuator name="rightAnkleLeftActuator">
      <node name="/right_leg/ankle/left_actuator"/>
      <role>left</role>
      <mechanicalReduction>1</mechanicalReduction>
      <api name="robot_hardware_interface/TurbodriverAPI_linear_futek"/>
    </actuator>
  </transmission>
  <link name="leftHipYawLink">
    <inertial>
      <mass value="2.39"/>
      <origin rpy="0 0 0" xyz="0.02176 -0.00131 0.03867"/>
      <inertia ixx="0.017260978" ixy="0.0" ixz="0.0" iyy="0.014866198" iyz="0.0" izz="0.011238178"/>
    </inertial>
    <visual>
      <geometry>
        <mesh filename="package://val_description/model/meshes/legs/lj1_left.dae"/>
      </geometry>
      <origin rpy="0.0 0.0 0.0" xyz="0.0 0.0 0.0"/>
    </visual>
    <collision>
      <geometry>
        <mesh filename="package://val_description/model/meshes/legs/lj1_left.dae"/>
      </geometry>
      <origin rpy="0 0 0" xyz="0 0 0"/>
    </collision>
  </link>
  <link name="leftHipRollLink">
    <inertial>
      <mass value="3.665"/>
      <origin rpy="0 0 0" xyz="0.012959 0.00755 -0.015950"/>
      <inertia ixx="0.005978962" ixy="-0.000234823" ixz="0.000553962" iyy="0.009372646" iyz="0.000778956" izz="0.008193117"/>
    </inertial>
  </link>
  <link name="leftHipPitchLink">
    <inertial>
      <mass value="10.2"/>
      <origin rpy="0 0 0" xyz="0.016691 0.091397 -0.207875"/>
      <inertia ixx="0.24083413" ixy="3.5915e-05" ixz="0.003699383" iyy="0.25689705" iyz="-0.001333005" izz="0.023276352"/>
    </inertial>
    <visual>
      <geometry>
        <mesh filename="package://val_description/model/meshes/legs/lj3_left.dae"/>
      </geometry>
      <origin rpy="0.0 0.0 0.0" xyz="0.0 0.0 0.0"/>
    </visual>
    <collision>
      <geometry>
        <mesh filename="package://val_description/model/meshes/legs/lj3_left.dae"/>
      </geometry>
      <origin rpy="0 0 0" xyz="0 0 0"/>
    </collision>
  </link>
  <link name="leftKneePitchLink">
    <inertial>
      <mass value="6.2"/>
      <origin rpy="0 0 0" xyz="-0.022183  0.001703  -0.189418"/>
      <inertia ixx="0.086935683" ixy="9.929e-05" ixz="0.000573207" iyy="0.091584066" iyz="0.000313745" izz="0.014017272"/>
    </inertial>
    <visual>
      <geometry>
        <mesh filename="package://val_description/model/meshes/legs/lj4_left.dae"/>
      </geometry>
      <origin rpy="0.0 0.0 0.0" xyz="0.0 0.0 0.0"/>
    </visual>
    <collision>
      <geometry>
        <mesh filename="package://val_description/model/meshes/legs/lj4_left.dae"/>
      </geometry>
      <origin rpy="0 0 0" xyz="0 0 0"/>
    </collision>
  </link>
  <link name="leftAnklePitchLink">
    <inertial>
      <mass value="0.03"/>
      <origin rpy="0 0 0" xyz="0.0 0.0 0.0"/>
      <inertia ixx="4.377e-06" ixy="0.0" ixz="0.0" iyy="4.322e-06" iyz="0.0" izz="7.015e-06"/>
    </inertial>
    <visual>
      <geometry>
        <mesh filename="package://val_description/model/meshes/legs/lj5.dae"/>
      </geometry>
      <origin rpy="0.0 0.0 0.0" xyz="0.0 0.0 0.0"/>
    </visual>
    <collision>
      <geometry>
        <mesh filename="package://val_description/model/meshes/legs/lj5.dae"/>
      </geometry>
      <origin rpy="0 0 0" xyz="0 0 0"/>
    </collision>
  </link>
  <link name="leftFoot">
    <inertial>
      <mass value="2.27"/>
      <origin rpy="0 0 0" xyz="0.037702  0.005161  -0.047634"/>
      <inertia ixx="0.00623936" ixy="0.000217174" ixz="0.001340587" iyy="0.017786991" iyz="-0.000187749" izz="0.020774433"/>
    </inertial>
    <visual>
      <geometry>
        <mesh filename="package://val_description/model/meshes/legs/foot.dae"/>
      </geometry>
      <origin rpy="0 0 0" xyz="0 0 0"/>
    </visual>
    <collision>
      <geometry>
        <box size="0.27 0.16 0.064"/>
      </geometry>
      <origin rpy="0.0 0.0 0.0" xyz="0.045 0.0 -0.056"/>
    </collision>
  </link>
  <!-- foot contact parameters copied from atlas_description in drcsim -->
  <gazebo reference="leftFoot">
    <!-- kp and kd for rubber -->
    <kp>1000000.0</kp>
    <kd>100.0</kd>
    <mu1>1.5</mu1>
    <mu2>1.5</mu2>
    <fdir1>1 0 0</fdir1>
    <maxVel>1.0</maxVel>
    <minDepth>0.00</minDepth>
  </gazebo>
  <joint name="leftHipYaw" type="revolute">
    <origin rpy="0.0 0.0 0.0" xyz="0.0 0.1016 -0.1853"/>
    <axis xyz="0 0 1"/>
    <parent link="pelvis"/>
    <child link="leftHipYawLink"/>
    <limit effort="190" lower="-0.4141" upper="1.10" velocity="5.89"/>
    <controller_gains Kd="0.0" Ki="0.0" Kp="0.0"/>
    <dynamics damping="0.1" friction="0.0"/>
  </joint>
  <gazebo reference="leftHipYaw">
    <provideFeedback>1</provideFeedback>
    <implicitSpringDamper>1</implicitSpringDamper>
  </gazebo>
  <joint name="leftHipRoll" type="revolute">
    <origin rpy="0.0 0.0 0.0" xyz="0.0 0.0 0.0"/>
    <axis xyz="1 0 0"/>
    <parent link="leftHipYawLink"/>
    <child link="leftHipRollLink"/>
    <limit effort="350" lower="-0.467" upper="0.5515" velocity="7"/>
    <controller_gains Kd="0.0" Ki="0.0" Kp="0.0"/>
    <dynamics damping="0.1" friction="0.0"/>
  </joint>
  <gazebo reference="leftHipRoll">
    <provideFeedback>1</provideFeedback>
    <implicitSpringDamper>1</implicitSpringDamper>
  </gazebo>
  <joint name="leftHipPitch" type="revolute">
    <origin rpy="0.0 0.0 0.0" xyz="0.0 0.0 -0.0609"/>
    <axis xyz="0 1 0"/>
    <parent link="leftHipRollLink"/>
    <child link="leftHipPitchLink"/>
    <limit effort="350" lower="-2.42" upper="1.619" velocity="6.11"/>
    <controller_gains Kd="0.0" Ki="0.0" Kp="0.0"/>
    <dynamics damping="0.1" friction="0.0"/>
  </joint>
  <gazebo reference="leftHipPitch">
    <provideFeedback>1</provideFeedback>
    <implicitSpringDamper>1</implicitSpringDamper>
  </gazebo>
  <joint name="leftKneePitch" type="revolute">
    <origin rpy="0.0 0.0 0.0" xyz="0.000112225 0.0361046 -0.430959"/>
    <axis xyz="0 1 0"/>
    <parent link="leftHipPitchLink"/>
    <child link="leftKneePitchLink"/>
    <limit effort="350" lower="-0.083" upper="2.057" velocity="6.11"/>
    <controller_gains Kd="0.0" Ki="0.0" Kp="0.0"/>
    <dynamics damping="0.1" friction="0.0"/>
  </joint>
  <gazebo reference="leftKneePitch">
    <provideFeedback>1</provideFeedback>
    <implicitSpringDamper>1</implicitSpringDamper>
  </gazebo>
  <joint name="leftAnklePitch" type="revolute">
    <origin rpy="0.0 0.0 0.0" xyz="-0.0102381 0.0 -0.40627"/>
    <axis xyz="0 1 0"/>
    <parent link="leftKneePitchLink"/>
    <child link="leftAnklePitchLink"/>
    <limit effort="205" lower="-0.8644" upper="0.875" velocity="11"/>
    <controller_gains Kd="0.0" Ki="0.0" Kp="0.0"/>
    <dynamics damping="0.1" friction="0.0"/>
  </joint>
  <gazebo reference="leftAnklePitch">
    <provideFeedback>1</provideFeedback>
    <implicitSpringDamper>1</implicitSpringDamper>
  </gazebo>
  <joint name="leftAnkleRoll" type="revolute">
    <origin rpy="0.0 0.0 0.0" xyz="0.0101259 0.0 0.0"/>
    <axis xyz="1 0 0"/>
    <parent link="leftAnklePitchLink"/>
    <child link="leftFoot"/>
    <limit effort="205" lower="-0.349" upper="0.348" velocity="11"/>
    <controller_gains Kd="0.0" Ki="0.0" Kp="0.0"/>
    <dynamics damping="0.3" friction="0.0"/>
  </joint>
  <gazebo reference="leftAnkleRoll">
    <provideFeedback>1</provideFeedback>
    <implicitSpringDamper>1</implicitSpringDamper>
  </gazebo>
  <link name="leftCOP_Frame">
    <inertial>
      <mass value="0.1"/>
      <origin rpy="0 0 0" xyz="0 0 0"/>
      <inertia ixx="8.333333333333336e-05" ixy="0.0" ixz="0.0" iyy="8.333333333333336e-05" iyz="0.0" izz="0.00012500000000000003"/>
    </inertial>
  </link>
  <joint name="leftCOP_Offset" type="fixed">
    <origin rpy="0.0 0.0 0.0" xyz="0.0189 0.0 -0.0783"/>
    <axis xyz="0 0 1"/>
    <parent link="leftFoot"/>
    <child link="leftCOP_Frame"/>
  </joint>
  <gazebo reference="leftCOP_Offset">
    <implicitSpringDamper>1</implicitSpringDamper>
  </gazebo>
  <link name="leftFootSixAxis_Frame">
    <!-- Virtual Link -->
    <inertial>
      <mass value="1e-07"/>
      <origin rpy="0 0 0" xyz="0 0 0"/>
      <inertia ixx="3.3333333333333322e-22" ixy="0.0" ixz="0.0" iyy="3.3333333333333322e-22" iyz="0.0" izz="4.999999999999999e-22"/>
    </inertial>
  </link>
  <joint name="leftFootSixAxis_Offset" type="fixed">
    <origin rpy="3.14 0.0 0.0" xyz="0.0215646 0.0 -0.051054"/>
    <axis xyz="0 0 1"/>
    <parent link="leftFoot"/>
    <child link="leftFootSixAxis_Frame"/>
  </joint>
  <gazebo reference="leftFootSixAxis_Offset">
    <implicitSpringDamper>1</implicitSpringDamper>
  </gazebo>
  <gazebo reference="leftAnkleRoll">
    <sensor name="leftFootSixAxis" type="force_torque">
      <pose>0.0215646 0.0 -0.051054 3.14 0.0 0.0</pose>
      <sensor_number id="FT16594"/>
      <node id="/left_leg/ankle/left_actuator"/>
      <api name="ati_sensor_interface::ATISensorInterface"/>
      <always_on>true</always_on>
      <update_rate>500.0</update_rate>
      <force_torque>
        <frame>sensor</frame>
        <measure_direction>parent_to_child</measure_direction>
      </force_torque>
    </sensor>
  </gazebo>
  <transmission name="leftHipYawTransmission">
    <type>transmission_interface/SimpleTransmission</type>
    <joint name="leftHipYaw">
      <hardwareInterface>EffortJointInterface</hardwareInterface>
    </joint>
    <actuator name="leftHipYaw">
      <node name="/pelvis/left_leg_j1"/>
      <mechanicalReduction>1</mechanicalReduction>
      <api name="robot_hardware_interface/TurbodriverAPI"/>
    </actuator>
  </transmission>
  <transmission name="leftHipRollTransmission">
    <type>transmission_interface/SimpleTransmission</type>
    <joint name="leftHipRoll">
      <hardwareInterface>EffortJointInterface</hardwareInterface>
    </joint>
    <actuator name="leftHipRoll">
      <node name="/left_leg/j2"/>
      <mechanicalReduction>1</mechanicalReduction>
      <api name="robot_hardware_interface/TurbodriverAPI"/>
    </actuator>
  </transmission>
  <transmission name="leftHipPitchTransmission">
    <type>transmission_interface/SimpleTransmission</type>
    <joint name="leftHipPitch">
      <hardwareInterface>EffortJointInterface</hardwareInterface>
    </joint>
    <actuator name="leftHipPitch">
      <node name="/left_leg/j3"/>
      <mechanicalReduction>1</mechanicalReduction>
      <api name="robot_hardware_interface/TurbodriverAPI"/>
    </actuator>
  </transmission>
  <transmission name="leftKneePitchTransmission">
    <type>transmission_interface/SimpleTransmission</type>
    <joint name="leftKneePitch">
      <hardwareInterface>EffortJointInterface</hardwareInterface>
    </joint>
    <actuator name="leftKneePitch">
      <node name="/left_leg/j4"/>
      <mechanicalReduction>1</mechanicalReduction>
      <api name="robot_hardware_interface/TurbodriverAPI"/>
    </actuator>
  </transmission>
  <transmission name="leftAnkleTransmission">
    <type>robot_transmission_interface::AnklePushrodTransmissionLoader</type>
    <joint name="leftAnklePitch">
      <role>pitch</role>
      <hardwareInterface>EffortJointInterface</hardwareInterface>
    </joint>
    <joint name="leftAnkleRoll">
      <role>roll</role>
      <hardwareInterface>EffortJointInterface</hardwareInterface>
    </joint>
    <actuator name="leftAnkleRightActuator">
      <node name="/left_leg/ankle/right_actuator"/>
      <role>right</role>
      <mechanicalReduction>1</mechanicalReduction>
      <api name="robot_hardware_interface/TurbodriverAPI_linear_futek"/>
    </actuator>
    <actuator name="leftAnkleLeftActuator">
      <node name="/left_leg/ankle/left_actuator"/>
      <role>left</role>
      <mechanicalReduction>1</mechanicalReduction>
      <api name="robot_hardware_interface/TurbodriverAPI_linear_futek"/>
    </actuator>
  </transmission>
  <link name="rightShoulderPitchLink">
    <inertial>
      <mass value="2.65"/>
      <origin rpy="0 0 0" xyz="0.012 -0.251 0.000000"/>
      <inertia ixx="0.013718167" ixy="0.0" ixz="0.0" iyy="0.010502833" iyz="0.0" izz="0.014806433"/>
    </inertial>
    <visual>
      <geometry>
        <mesh filename="package://val_description/model/meshes/arms/aj1_right.dae"/>
      </geometry>
      <origin rpy="0.0 0.0 0.0" xyz="0.0 0.0 0.0"/>
    </visual>
    <collision>
      <geometry>
        <mesh filename="package://val_description/model/meshes/arms/aj1_right.dae"/>
      </geometry>
      <origin rpy="0 0 0" xyz="0 0 0"/>
    </collision>
  </link>
  <link name="rightShoulderRollLink">
    <inertial>
      <mass value="3.97"/>
      <origin rpy="0 0 0" xyz="0.008513 -0.02068 -0.001088"/>
      <inertia ixx="0.014598842" ixy="-0.00066764" ixz="3.629e-05" iyy="0.006452136" iyz="8.283e-05" izz="0.016848319"/>
    </inertial>
    <visual>
      <geometry>
        <mesh filename="package://val_description/model/meshes/arms/aj2_right.dae"/>
      </geometry>
      <origin rpy="0.0 0.0 0.0" xyz="0.0 0.0 0.0"/>
    </visual>
    <collision>
      <geometry>
        <mesh filename="package://val_description/model/meshes/arms/aj2_right.dae"/>
      </geometry>
      <origin rpy="0 0 0" xyz="0 0 0"/>
    </collision>
  </link>
  <link name="rightShoulderYawLink">
    <inertial>
      <mass value="3.085"/>
      <origin rpy="0 0 0" xyz="-0.004304 -0.209832 -0.007295"/>
      <inertia ixx="0.039355177" ixy="0.007827077" ixz="0.000753947" iyy="0.004905765" iyz="-0.002723873" izz="0.041879481"/>
    </inertial>
    <visual>
      <geometry>
        <mesh filename="package://val_description/model/meshes/arms/aj3_right.dae"/>
      </geometry>
      <origin rpy="0.0 0.0 0.0" xyz="0.0 0.0 0.0"/>
    </visual>
    <collision>
      <geometry>
        <mesh filename="package://val_description/model/meshes/arms/aj3_right.dae"/>
      </geometry>
      <origin rpy="0 0 0" xyz="0 0 0"/>
    </collision>
  </link>
  <link name="rightElbowPitchLink">
    <inertial>
      <mass value="1.83"/>
      <origin rpy="0 0 0" xyz="-0.020344 -0.014722 -0.0223"/>
      <inertia ixx="0.003314516" ixy="-0.000535099" ixz="-0.000728077" iyy="0.003505669" iyz="-0.000423865" izz="0.003011283"/>
    </inertial>
    <visual>
      <geometry>
        <mesh filename="package://val_description/model/meshes/arms/aj4_right.dae"/>
      </geometry>
      <origin rpy="0.0 0.0 0.0" xyz="0.0 0.0 0.0"/>
    </visual>
    <collision>
      <geometry>
        <mesh filename="package://val_description/model/meshes/arms/aj4_right.dae"/>
      </geometry>
      <origin rpy="0 0 0" xyz="0 0 0"/>
    </collision>
  </link>
  <joint name="rightShoulderPitch" type="revolute">
    <origin rpy="0.0 0.0 0.0" xyz="-0.0316 0.0 0.2984"/>
    <axis xyz="0 1 0"/>
    <parent link="torso"/>
    <child link="rightShoulderPitchLink"/>
    <limit effort="190" lower="-2.85" upper="2.0" velocity="3"/>
    <controller_gains Kd="0.0" Ki="0.0" Kp="0.0"/>
    <dynamics damping="0.1" friction="0.0"/>
  </joint>
  <gazebo reference="rightShoulderPitch">
    <provideFeedback>1</provideFeedback>
    <implicitSpringDamper>1</implicitSpringDamper>
  </gazebo>
  <joint name="rightShoulderRoll" type="revolute">
    <origin rpy="0.0 0.0 0.0" xyz="0.0 -0.2499 0.0"/>
    <axis xyz="1 0 0"/>
    <parent link="rightShoulderPitchLink"/>
    <child link="rightShoulderRollLink"/>
    <limit effort="350" lower="-1.266" upper="1.519" velocity="3.5"/>
    <controller_gains Kd="0.0" Ki="0.0" Kp="0.0"/>
    <dynamics damping="0.1" friction="0.0"/>
  </joint>
  <gazebo reference="rightShoulderRoll">
    <provideFeedback>1</provideFeedback>
    <implicitSpringDamper>1</implicitSpringDamper>
  </gazebo>
  <joint name="rightShoulderYaw" type="revolute">
    <origin rpy="0.0 0.0 0.0" xyz="0.0 0.0 0.0"/>
    <axis xyz="0 1 0"/>
    <parent link="rightShoulderRollLink"/>
    <child link="rightShoulderYawLink"/>
    <limit effort="65" lower="-3.10" upper="2.18" velocity="1.5"/>
    <controller_gains Kd="0.0" Ki="0.0" Kp="0.0"/>
    <dynamics damping="0.1" friction="0.0"/>
  </joint>
  <gazebo reference="rightShoulderYaw">
    <provideFeedback>1</provideFeedback>
    <implicitSpringDamper>1</implicitSpringDamper>
  </gazebo>
  <joint name="rightElbowPitch" type="revolute">
    <origin rpy="0.0 0.0 0.0" xyz="0.0254 -0.33 0.0"/>
    <axis xyz="0 0 1"/>
    <parent link="rightShoulderYawLink"/>
    <child link="rightElbowPitchLink"/>
    <limit effort="65" lower="-0.12" upper="2.174" velocity="3.5"/>
    <controller_gains Kd="0.0" Ki="0.0" Kp="0.0"/>
    <dynamics damping="0.1" friction="0.0"/>
  </joint>
  <gazebo reference="rightElbowPitch">
    <provideFeedback>1</provideFeedback>
    <implicitSpringDamper>1</implicitSpringDamper>
  </gazebo>
  <link name="rightForearmLink">
    <inertial>
      <mass value="2.476"/>
      <origin rpy="0 0 0" xyz="0.015000 -0.13 0.019564"/>
      <inertia ixx="0.01175543" ixy="-0.001300853" ixz="-0.000727141" iyy="0.005071567" iyz="-0.001695416" izz="0.011365657"/>
    </inertial>
    <visual>
      <geometry>
        <mesh filename="package://val_description/model/meshes/arms/aj5_right.dae"/>
      </geometry>
      <origin rpy="0.0 0.0 0.0" xyz="0.0 0.0 0.0"/>
    </visual>
    <collision>
      <geometry>
        <mesh filename="package://val_description/model/meshes/arms/aj5_right.dae"/>
      </geometry>
      <origin rpy="0 0 0" xyz="0 0 0"/>
    </collision>
  </link>
  <link name="rightWristRollLink">
    <inertial>
      <mass value="0.14"/>
      <origin rpy="0 0 0" xyz="0 0 0"/>
      <inertia ixx="3.0251e-05" ixy="-1.25e-07" ixz="-3.6e-08" iyy="3.772e-05" iyz="0.0" izz="9.395e-06"/>
    </inertial>
    <visual>
      <geometry>
        <mesh filename="package://val_description/model/meshes/arms/aj6_right.dae"/>
      </geometry>
      <origin rpy="0.0 0.0 0.0" xyz="0.0 0.0 0.0"/>
    </visual>
    <collision>
      <geometry>
        <mesh filename="package://val_description/model/meshes/arms/aj6_right.dae"/>
      </geometry>
      <origin rpy="0 0 0" xyz="0 0 0"/>
    </collision>
  </link>
  <link name="rightPalm">
    <inertial>
      <mass value="0.712"/>
      <origin rpy="0 0 0" xyz="0.002954 -0.052034 -0.000236"/>
      <inertia ixx="0.000943493" ixy="3.4393e-05" ixz="-3.8828e-05" iyy="0.000711024" iyz="2.3429e-05" izz="0.000610199"/>
    </inertial>
    <visual>
      <geometry>
        <mesh filename="package://val_description/model/meshes/arms/palm_right.dae"/>
      </geometry>
      <origin rpy="0.0 0.0 0.0" xyz="0.0 0.0 0.0"/>
    </visual>
    <collision>
      <geometry>
        <mesh filename="package://val_description/model/meshes/arms/palm_right.dae"/>
      </geometry>
      <origin rpy="0 0 0" xyz="0 0 0"/>
    </collision>
  </link>
  <gazebo reference="rightPalm">
    <kp>1e5</kp>
    <kd>1</kd>
    <maxVel>0.1</maxVel>
    <minDepth>0.0015</minDepth>
  </gazebo>
  <joint name="rightForearmYaw" type="revolute">
    <origin rpy="0.0 0.0 0.0" xyz="-0.0254 0 0"/>
    <axis xyz="0 1 0"/>
    <parent link="rightElbowPitchLink"/>
    <child link="rightForearmLink"/>
    <limit effort="26" lower="-2.019" upper="3.14" velocity="0.8"/>
    <controller_gains Kd="0.0" Ki="0.0" Kp="1000"/>
    <dynamics damping="0.1" friction="0.0"/>
  </joint>
  <gazebo reference="rightForearmYaw">
    <provideFeedback>1</provideFeedback>
    <implicitSpringDamper>1</implicitSpringDamper>
  </gazebo>
  <joint name="rightWristRoll" type="revolute">
    <origin rpy="0.0 0.0 0.0" xyz="0.0 -0.2871 0.0"/>
    <axis xyz="1 0 0"/>
    <parent link="rightForearmLink"/>
    <child link="rightWristRollLink"/>
    <limit effort="14" lower="-0.35" upper="0.35" velocity="1"/>
    <controller_gains Kd="0" Ki="0.0" Kp="500"/>
    <dynamics damping="0.1" friction="0.0"/>
  </joint>
  <gazebo reference="rightWristRoll">
    <provideFeedback>1</provideFeedback>
    <implicitSpringDamper>1</implicitSpringDamper>
  </gazebo>
  <joint name="rightWristPitch" type="revolute">
    <origin rpy="0.0 0.0 0.0" xyz="0.0 0.0 0.0"/>
    <axis xyz="0 0 1"/>
    <parent link="rightWristRollLink"/>
    <child link="rightPalm"/>
    <limit effort="14" lower="-0.6" upper="0.6" velocity="1"/>
    <controller_gains Kd="0" Ki="0.0" Kp="500"/>
    <dynamics damping="0.1" friction="0.0"/>
  </joint>
  <gazebo reference="rightWristPitch">
    <provideFeedback>1</provideFeedback>
    <implicitSpringDamper>1</implicitSpringDamper>
  </gazebo>
  <transmission name="rightShoulderPitchTransmission">
    <type>transmission_interface/SimpleTransmission</type>
    <joint name="rightShoulderPitch">
      <hardwareInterface>EffortJointInterface</hardwareInterface>
    </joint>
    <actuator name="rightShoulderPitch">
      <node name="/trunk/right_arm_j1"/>
      <mechanicalReduction>1</mechanicalReduction>
      <api name="robot_hardware_interface/TurbodriverAPI"/>
    </actuator>
  </transmission>
  <transmission name="rightShoulderRollTransmission">
    <type>transmission_interface/SimpleTransmission</type>
    <joint name="rightShoulderRoll">
      <hardwareInterface>EffortJointInterface</hardwareInterface>
    </joint>
    <actuator name="rightShoulderRoll">
      <node name="/right_arm/j2"/>
      <mechanicalReduction>1</mechanicalReduction>
      <api name="robot_hardware_interface/TurbodriverAPI"/>
    </actuator>
  </transmission>
  <transmission name="rightShoulderYawTransmission">
    <type>transmission_interface/SimpleTransmission</type>
    <joint name="rightShoulderYaw">
      <hardwareInterface>EffortJointInterface</hardwareInterface>
    </joint>
    <actuator name="rightShoulderYaw">
      <node name="/right_arm/j3"/>
      <mechanicalReduction>1</mechanicalReduction>
      <api name="robot_hardware_interface/TurbodriverAPI"/>
    </actuator>
  </transmission>
  <transmission name="rightElbowPitchTransmission">
    <type>transmission_interface/SimpleTransmission</type>
    <joint name="rightElbowPitch">
      <hardwareInterface>EffortJointInterface</hardwareInterface>
    </joint>
    <actuator name="rightElbowPitch">
      <node name="/right_arm/j4"/>
      <mechanicalReduction>1</mechanicalReduction>
      <api name="robot_hardware_interface/TurbodriverAPI"/>
    </actuator>
  </transmission>
  <transmission name="rightForearmYawTransmission">
    <type>transmission_interface/SimpleTransmission</type>
    <joint name="rightForearmYaw">
      <hardwareInterface>EffortJointInterface</hardwareInterface>
    </joint>
    <actuator name="rightForearmYaw">
      <node name="/right_arm/j5"/>
      <mechanicalReduction>1</mechanicalReduction>
      <api name="robot_hardware_interface/TurbodriverAPI"/>
    </actuator>
  </transmission>
  <transmission name="rightWristTransmission">
    <type>robot_transmission_interface/WristPushrodTransmission</type>
    <joint name="rightWristPitch">
      <role>pitch</role>
      <hardwareInterface>EffortJointInterface</hardwareInterface>
    </joint>
    <joint name="rightWristRoll">
      <role>roll</role>
      <hardwareInterface>EffortJointInterface</hardwareInterface>
    </joint>
    <actuator name="rightWristRightActuator">
      <node name="/right_arm/wrist/right_actuator"/>
      <role>bottom</role>
      <mechanicalReduction>1</mechanicalReduction>
      <api name="robot_hardware_interface::TurbodriverLinearFutekJointVelocity"/>
    </actuator>
    <actuator name="rightWristLeftActuator">
      <node name="/right_arm/wrist/left_actuator"/>
      <role>top</role>
      <mechanicalReduction>1</mechanicalReduction>
      <api name="robot_hardware_interface::TurbodriverLinearFutekJointVelocity"/>
    </actuator>
  </transmission>
  <link name="leftShoulderPitchLink">
    <inertial>
      <mass value="2.65"/>
      <origin rpy="0 0 0" xyz="-0.012 0.251 0.000000"/>
      <inertia ixx="0.013718167" ixy="0.0" ixz="0.0" iyy="0.010502833" iyz="0.0" izz="0.014806433"/>
    </inertial>
    <visual>
      <geometry>
        <mesh filename="package://val_description/model/meshes/arms/aj1_left.dae"/>
      </geometry>
      <origin rpy="0.0 0.0 0.0" xyz="0.0 0.0 0.0"/>
    </visual>
    <collision>
      <geometry>
        <mesh filename="package://val_description/model/meshes/arms/aj1_left.dae"/>
      </geometry>
      <origin rpy="0 0 0" xyz="0 0 0"/>
    </collision>
  </link>
  <link name="leftShoulderRollLink">
    <inertial>
      <mass value="3.97"/>
      <origin rpy="0 0 0" xyz="-0.008513 0.02068 -0.001088"/>
      <inertia ixx="0.014598842" ixy="-0.00066764" ixz="-3.629e-05" iyy="0.006452136" iyz="-8.283e-05" izz="0.016848319"/>
    </inertial>
    <visual>
      <geometry>
        <mesh filename="package://val_description/model/meshes/arms/aj2_left.dae"/>
      </geometry>
      <origin rpy="0.0 0.0 0.0" xyz="0.0 0.0 0.0"/>
    </visual>
    <collision>
      <geometry>
        <mesh filename="package://val_description/model/meshes/arms/aj2_left.dae"/>
      </geometry>
      <origin rpy="0 0 0" xyz="0 0 0"/>
    </collision>
  </link>
  <link name="leftShoulderYawLink">
    <inertial>
      <mass value="3.085"/>
      <origin rpy="0 0 0" xyz="-0.004304 0.209832 0.007295"/>
      <inertia ixx="0.039355177" ixy="-0.007827077" ixz="-0.000753947" iyy="0.004905765" iyz="0.002723873" izz="0.041879481"/>
    </inertial>
    <visual>
      <geometry>
        <mesh filename="package://val_description/model/meshes/arms/aj3_left.dae"/>
      </geometry>
      <origin rpy="0.0 0.0 0.0" xyz="0.0 0.0 0.0"/>
    </visual>
    <collision>
      <geometry>
        <mesh filename="package://val_description/model/meshes/arms/aj3_left.dae"/>
      </geometry>
      <origin rpy="0 0 0" xyz="0 0 0"/>
    </collision>
  </link>
  <link name="leftElbowPitchLink">
    <inertial>
      <mass value="1.83"/>
      <origin rpy="0 0 0" xyz="-0.020344 0.014722 0.0223"/>
      <inertia ixx="0.003314516" ixy="0.000535099" ixz="0.000728077" iyy="0.003505669" iyz="-0.000423865" izz="0.003011283"/>
    </inertial>
    <visual>
      <geometry>
        <mesh filename="package://val_description/model/meshes/arms/aj4_left.dae"/>
      </geometry>
      <origin rpy="0.0 0.0 0.0" xyz="0.0 0.0 0.0"/>
    </visual>
    <collision>
      <geometry>
        <mesh filename="package://val_description/model/meshes/arms/aj4_left.dae"/>
      </geometry>
      <origin rpy="0 0 0" xyz="0 0 0"/>
    </collision>
  </link>
  <joint name="leftShoulderPitch" type="revolute">
    <origin rpy="0.0 0.0 0.0" xyz="-0.0316 0.0 0.2984"/>
    <axis xyz="0 1 0"/>
    <parent link="torso"/>
    <child link="leftShoulderPitchLink"/>
    <limit effort="190" lower="-2.85" upper="2.00" velocity="3"/>
    <controller_gains Kd="0.0" Ki="0.0" Kp="0.0"/>
    <dynamics damping="0.1" friction="0.0"/>
  </joint>
  <gazebo reference="leftShoulderPitch">
    <provideFeedback>1</provideFeedback>
    <implicitSpringDamper>1</implicitSpringDamper>
  </gazebo>
  <joint name="leftShoulderRoll" type="revolute">
    <origin rpy="0.0 0.0 0.0" xyz="0.0 0.2499 0.0"/>
    <axis xyz="1 0 0"/>
    <parent link="leftShoulderPitchLink"/>
    <child link="leftShoulderRollLink"/>
    <limit effort="350" lower="-1.519" upper="1.266" velocity="3.5"/>
    <controller_gains Kd="0.0" Ki="0.0" Kp="0.0"/>
    <dynamics damping="0.1" friction="0.0"/>
  </joint>
  <gazebo reference="leftShoulderRoll">
    <provideFeedback>1</provideFeedback>
    <implicitSpringDamper>1</implicitSpringDamper>
  </gazebo>
  <joint name="leftShoulderYaw" type="revolute">
    <origin rpy="0.0 0.0 0.0" xyz="0.0 0.0 0.0"/>
    <axis xyz="0 1 0"/>
    <parent link="leftShoulderRollLink"/>
    <child link="leftShoulderYawLink"/>
    <limit effort="65" lower="-3.10" upper="2.18" velocity="1.5"/>
    <controller_gains Kd="0.0" Ki="0.0" Kp="0.0"/>
    <dynamics damping="0.1" friction="0.0"/>
  </joint>
  <gazebo reference="leftShoulderYaw">
    <provideFeedback>1</provideFeedback>
    <implicitSpringDamper>1</implicitSpringDamper>
  </gazebo>
  <joint name="leftElbowPitch" type="revolute">
    <origin rpy="0.0 0.0 0.0" xyz="0.0254 0.33 0.0"/>
    <axis xyz="0 0 1"/>
    <parent link="leftShoulderYawLink"/>
    <child link="leftElbowPitchLink"/>
    <limit effort="65" lower="-2.174" upper="0.12" velocity="3.5"/>
    <controller_gains Kd="0.0" Ki="0.0" Kp="0.0"/>
    <dynamics damping="0.1" friction="0.0"/>
  </joint>
  <gazebo reference="leftElbowPitch">
    <provideFeedback>1</provideFeedback>
    <implicitSpringDamper>1</implicitSpringDamper>
  </gazebo>
  <link name="leftForearmLink">
    <inertial>
      <mass value="2.476"/>
      <origin rpy="0 0 0" xyz="0.015000 0.13 0.019564"/>
      <inertia ixx="0.01175543" ixy="0.001300853" ixz="-0.000727141" iyy="0.005071567" iyz="0.001695416" izz="0.011365657"/>
    </inertial>
    <visual>
      <geometry>
        <mesh filename="package://val_description/model/meshes/arms/aj5_left.dae"/>
      </geometry>
      <origin rpy="0.0 0.0 0.0" xyz="0.0 0.0 0.0"/>
    </visual>
    <collision>
      <geometry>
        <mesh filename="package://val_description/model/meshes/arms/aj5_left.dae"/>
      </geometry>
      <origin rpy="0 0 0" xyz="0 0 0"/>
    </collision>
  </link>
  <link name="leftWristRollLink">
    <inertial>
      <mass value="0.14"/>
      <origin rpy="0 0 0" xyz="0 0 0"/>
      <inertia ixx="3.0251e-05" ixy="1.25e-07" ixz="3.6e-08" iyy="3.772e-05" iyz="0.0" izz="9.395e-06"/>
    </inertial>
    <visual>
      <geometry>
        <mesh filename="package://val_description/model/meshes/arms/aj6_left.dae"/>
      </geometry>
      <origin rpy="0.0 0.0 0.0" xyz="0.0 0.0 0.0"/>
    </visual>
    <collision>
      <geometry>
        <mesh filename="package://val_description/model/meshes/arms/aj6_left.dae"/>
      </geometry>
      <origin rpy="0 0 0" xyz="0 0 0"/>
    </collision>
  </link>
  <link name="leftPalm">
    <inertial>
      <mass value="0.712"/>
      <origin rpy="0 0 0" xyz="0.002954 0.052034 -0.000236"/>
      <inertia ixx="0.000943493" ixy="3.4393e-05" ixz="3.8828e-05" iyy="0.000711024" iyz="-2.3429e-05" izz="0.000610199"/>
    </inertial>
    <visual>
      <geometry>
        <mesh filename="package://val_description/model/meshes/arms/palm_left.dae"/>
      </geometry>
      <origin rpy="0.0 0.0 0.0" xyz="0.0 0.0 0.0"/>
    </visual>
    <collision>
      <geometry>
        <mesh filename="package://val_description/model/meshes/arms/palm_left.dae"/>
      </geometry>
      <origin rpy="0 0 0" xyz="0 0 0"/>
    </collision>
  </link>
  <gazebo reference="leftPalm">
    <kp>1e5</kp>
    <kd>1</kd>
    <maxVel>0.1</maxVel>
    <minDepth>0.0015</minDepth>
  </gazebo>
  <joint name="leftForearmYaw" type="revolute">
    <origin rpy="0.0 0.0 0.0" xyz="-0.0254 0 0"/>
    <axis xyz="0 1 0"/>
    <parent link="leftElbowPitchLink"/>
    <child link="leftForearmLink"/>
    <limit effort="26" lower="-2.019" upper="3.14" velocity="0.8"/>
    <controller_gains Kd="0.0" Ki="0.0" Kp="1000"/>
    <dynamics damping="0.1" friction="0.0"/>
  </joint>
  <gazebo reference="leftForearmYaw">
    <provideFeedback>1</provideFeedback>
    <implicitSpringDamper>1</implicitSpringDamper>
  </gazebo>
  <joint name="leftWristRoll" type="revolute">
    <origin rpy="0.0 0.0 0.0" xyz="0.0 0.2871 0.0"/>
    <axis xyz="1 0 0"/>
    <parent link="leftForearmLink"/>
    <child link="leftWristRollLink"/>
    <limit effort="14" lower="-0.35" upper="0.35" velocity="1"/>
    <controller_gains Kd="0" Ki="0.0" Kp="500"/>
    <dynamics damping="0.1" friction="0.0"/>
  </joint>
  <gazebo reference="leftWristRoll">
    <provideFeedback>1</provideFeedback>
    <implicitSpringDamper>1</implicitSpringDamper>
  </gazebo>
  <joint name="leftWristPitch" type="revolute">
    <origin rpy="0.0 0.0 0.0" xyz="0.0 0.0 0.0"/>
    <axis xyz="0 0 1"/>
    <parent link="leftWristRollLink"/>
    <child link="leftPalm"/>
    <limit effort="14" lower="-0.6" upper="0.6" velocity="1"/>
    <controller_gains Kd="0" Ki="0.0" Kp="500"/>
    <dynamics damping="0.1" friction="0.0"/>
  </joint>
  <gazebo reference="leftWristPitch">
    <provideFeedback>1</provideFeedback>
    <implicitSpringDamper>1</implicitSpringDamper>
  </gazebo>
  <transmission name="leftShoulderPitchTransmission">
    <type>transmission_interface/SimpleTransmission</type>
    <joint name="leftShoulderPitch">
      <hardwareInterface>EffortJointInterface</hardwareInterface>
    </joint>
    <actuator name="leftShoulderPitch">
      <node name="/trunk/left_arm_j1"/>
      <mechanicalReduction>1</mechanicalReduction>
      <api name="robot_hardware_interface/TurbodriverAPI"/>
    </actuator>
  </transmission>
  <transmission name="leftShoulderRollTransmission">
    <type>transmission_interface/SimpleTransmission</type>
    <joint name="leftShoulderRoll">
      <hardwareInterface>EffortJointInterface</hardwareInterface>
    </joint>
    <actuator name="leftShoulderRoll">
      <node name="/left_arm/j2"/>
      <mechanicalReduction>1</mechanicalReduction>
      <api name="robot_hardware_interface/TurbodriverAPI"/>
    </actuator>
  </transmission>
  <transmission name="leftShoulderYawTransmission">
    <type>transmission_interface/SimpleTransmission</type>
    <joint name="leftShoulderYaw">
      <hardwareInterface>EffortJointInterface</hardwareInterface>
    </joint>
    <actuator name="leftShoulderYaw">
      <node name="/left_arm/j3"/>
      <mechanicalReduction>1</mechanicalReduction>
      <api name="robot_hardware_interface/TurbodriverAPI"/>
    </actuator>
  </transmission>
  <transmission name="leftElbowPitchTransmission">
    <type>transmission_interface/SimpleTransmission</type>
    <joint name="leftElbowPitch">
      <hardwareInterface>EffortJointInterface</hardwareInterface>
    </joint>
    <actuator name="leftElbowPitch">
      <node name="/left_arm/j4"/>
      <mechanicalReduction>1</mechanicalReduction>
      <api name="robot_hardware_interface/TurbodriverAPI"/>
    </actuator>
  </transmission>
  <transmission name="leftForearmYawTransmission">
    <type>transmission_interface/SimpleTransmission</type>
    <joint name="leftForearmYaw">
      <hardwareInterface>EffortJointInterface</hardwareInterface>
    </joint>
    <actuator name="leftForearmYaw">
      <node name="/left_arm/j5"/>
      <mechanicalReduction>1</mechanicalReduction>
      <api name="robot_hardware_interface/TurbodriverAPI"/>
    </actuator>
  </transmission>
  <transmission name="leftWristTransmission">
    <type>robot_transmission_interface/WristPushrodTransmission</type>
    <joint name="leftWristPitch">
      <role>pitch</role>
      <hardwareInterface>EffortJointInterface</hardwareInterface>
    </joint>
    <joint name="leftWristRoll">
      <role>roll</role>
      <hardwareInterface>EffortJointInterface</hardwareInterface>
    </joint>
    <actuator name="leftWristRightActuator">
      <node name="/left_arm/wrist/right_actuator"/>
      <role>bottom</role>
      <mechanicalReduction>1</mechanicalReduction>
      <api name="robot_hardware_interface::TurbodriverLinearFutekJointVelocity"/>
    </actuator>
    <actuator name="leftWristLeftActuator">
      <node name="/left_arm/wrist/left_actuator"/>
      <role>top</role>
      <mechanicalReduction>1</mechanicalReduction>
      <api name="robot_hardware_interface::TurbodriverLinearFutekJointVelocity"/>
    </actuator>
  </transmission>
</robot>
